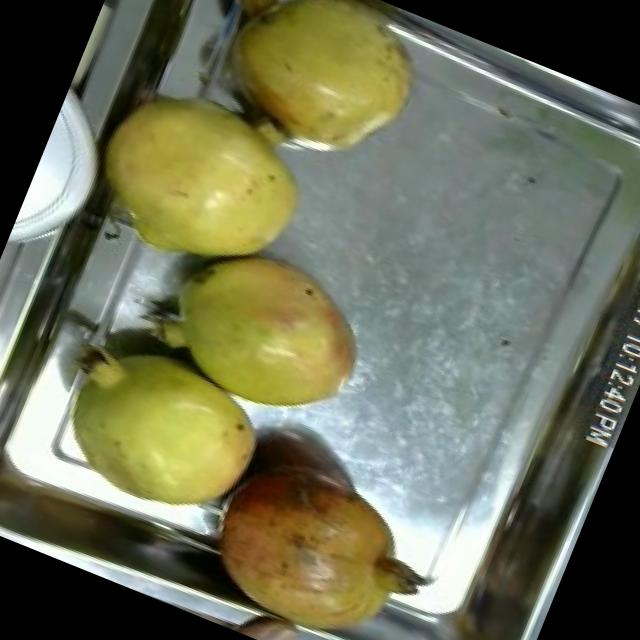fruit: (60, 54, 344, 316), (113, 205, 397, 452), (178, 425, 450, 640), (179, 0, 456, 191)
